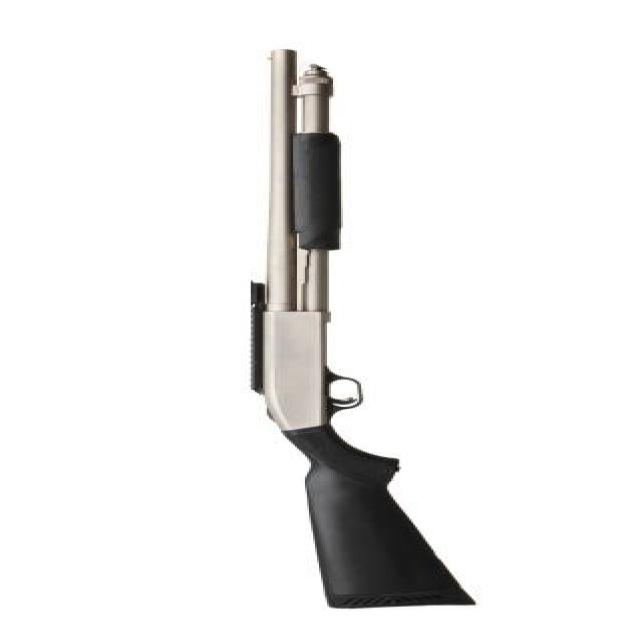rifle: (224, 40, 505, 625)
